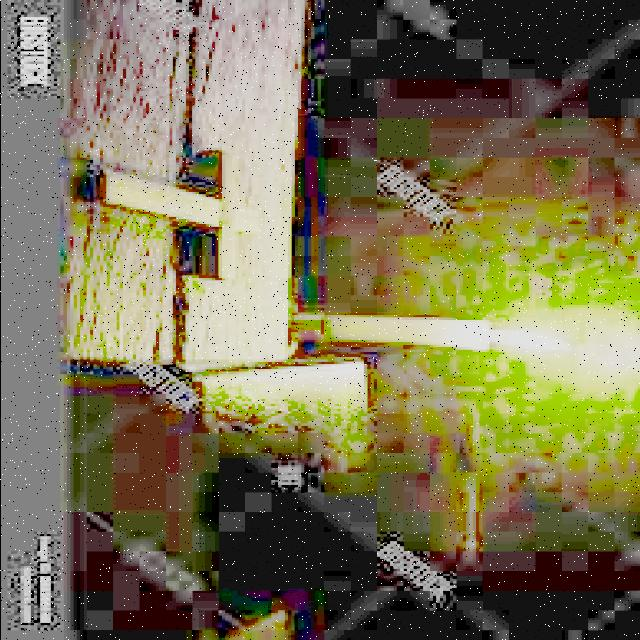api: (490, 326, 579, 353)
